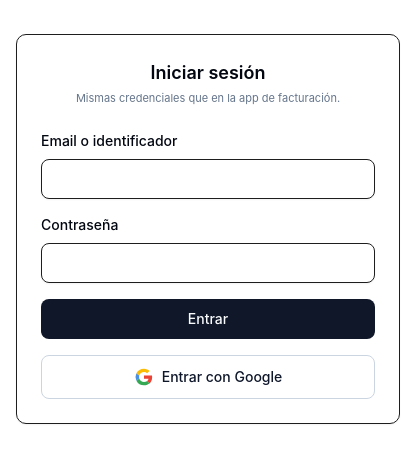
LoginPage OAuth Google › shows unauthorized message on 403
The image size is (417, 459).
Click the button "Entrar con Google": (208, 377) [41, 355, 375, 399]
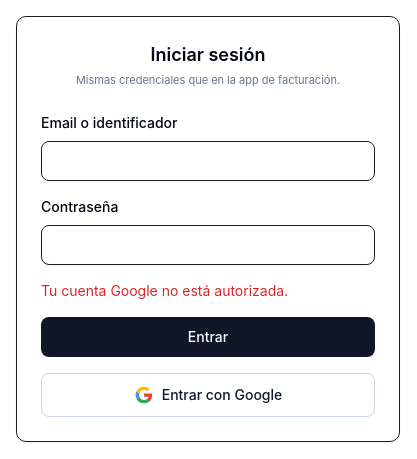
Check: the text "Tu cuenta Google no está autorizada." is shown, box [41, 282, 288, 299]
